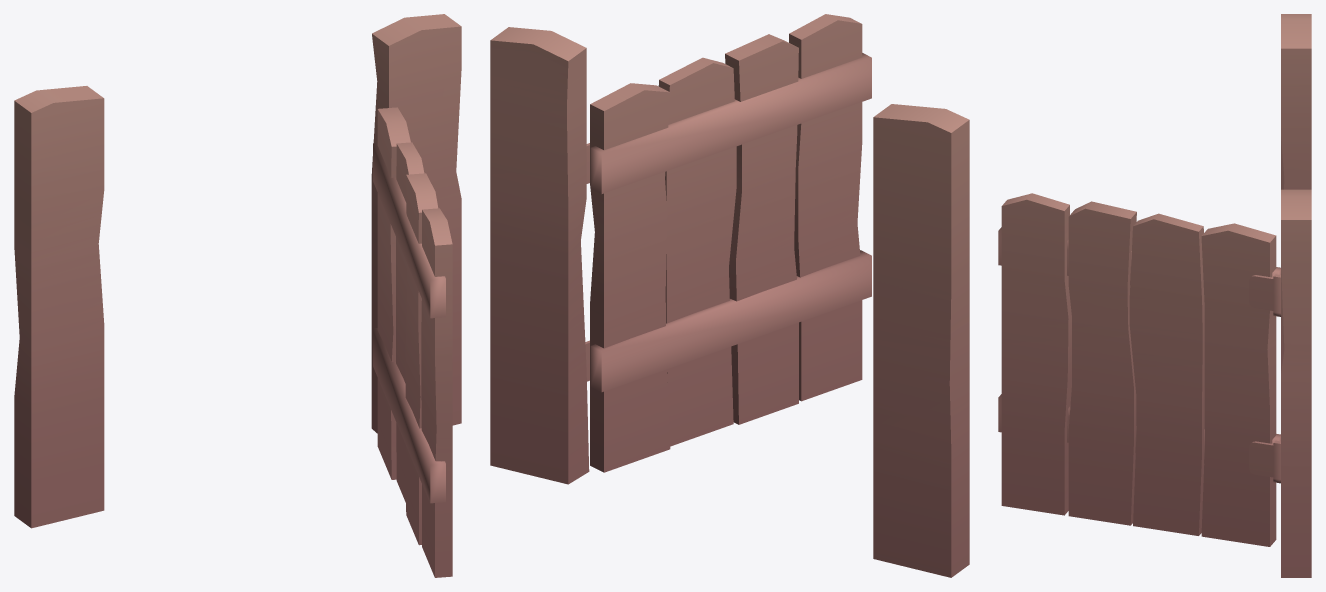
Rendered from Fence_Gate_Open.glb.
The picture shows the model from 3 angles, left to right: view 1: azimuth 30°, elevation 25°; view 2: azimuth 150°, elevation 25°; view 3: azimuth 270°, elevation 25°; orthographic projection. The views are drawn at different scales.
Visible parts, largest first — view 1: Fence_Gate_Open; view 2: Fence_Gate_Open; view 3: Fence_Gate_Open.
Part boxes in pixels (bbox=[...]): Fence_Gate_Open: bbox=[14, 14, 461, 577]; Fence_Gate_Open: bbox=[490, 14, 969, 577]; Fence_Gate_Open: bbox=[998, 14, 1311, 577].
Size of the model in its own units: 0.4941 by 0.4608 by 0.3453.
Materials: 1 (1 with a texture image).
